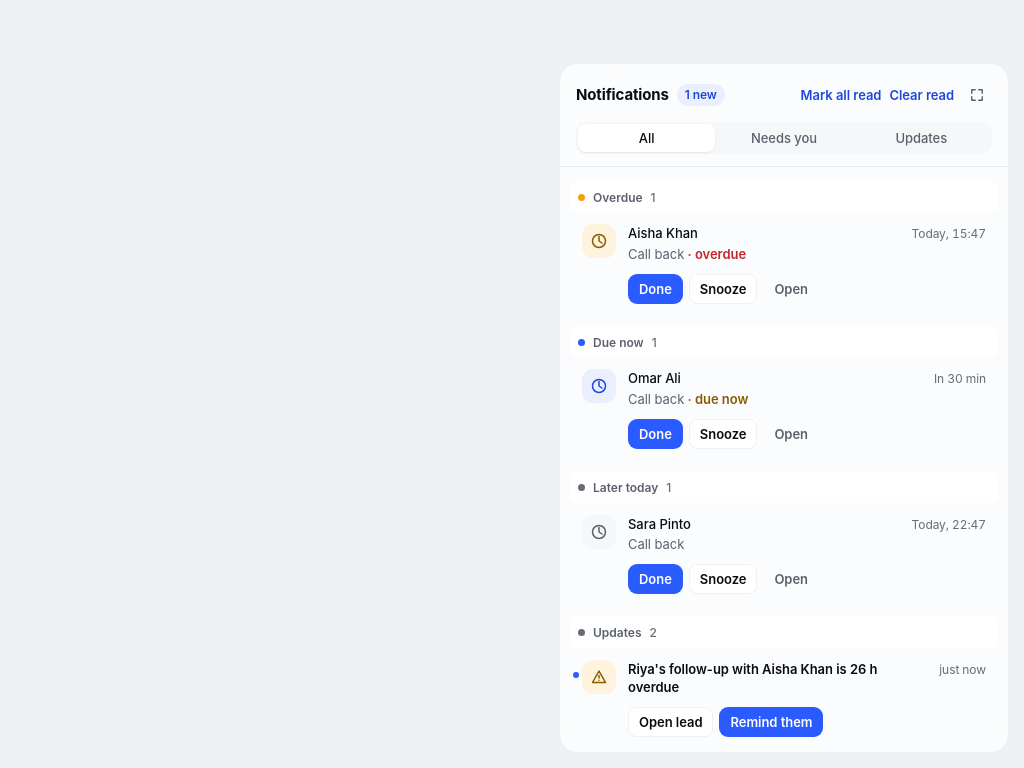
Scenario: the notification centre (3B Task 5) › done from the centre plays done and takes it away; Remind them nudges the assignee
Check: the dialog "Notifications" is shown, box [560, 64, 1008, 752]
Check: the list "overdue" is shown, box [570, 212, 998, 316]
Click the button "Done" below "· overdue" at (655, 289), box [628, 274, 683, 304]
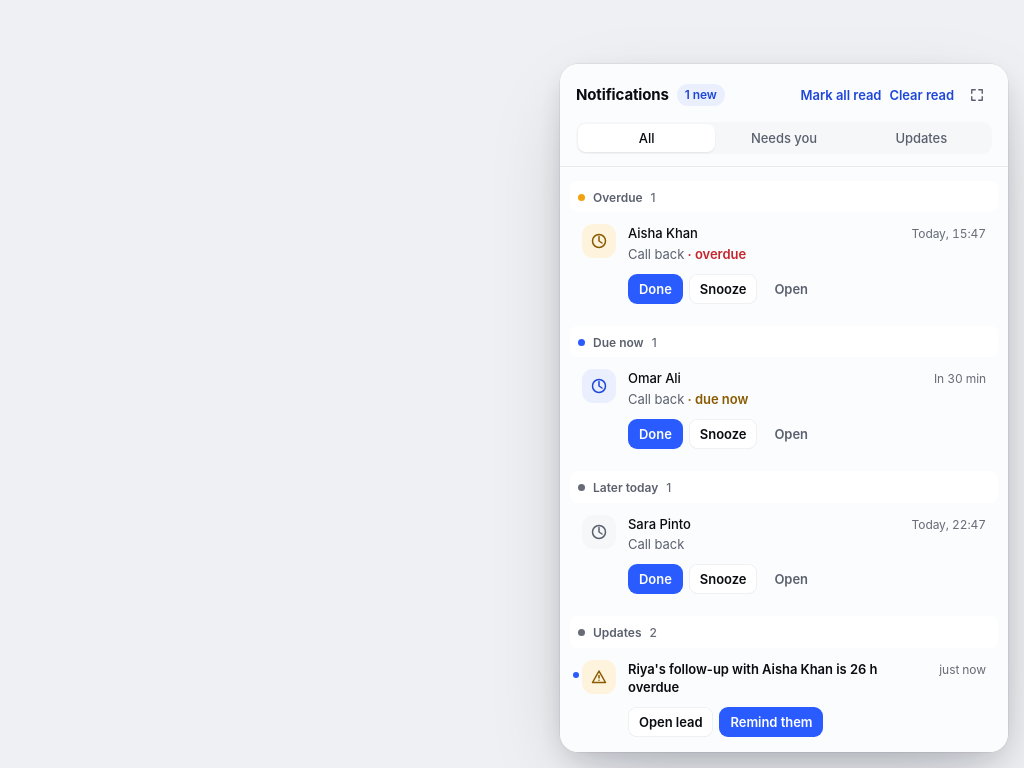
Click the button "Remind them" at (772, 722), box [720, 707, 824, 737]
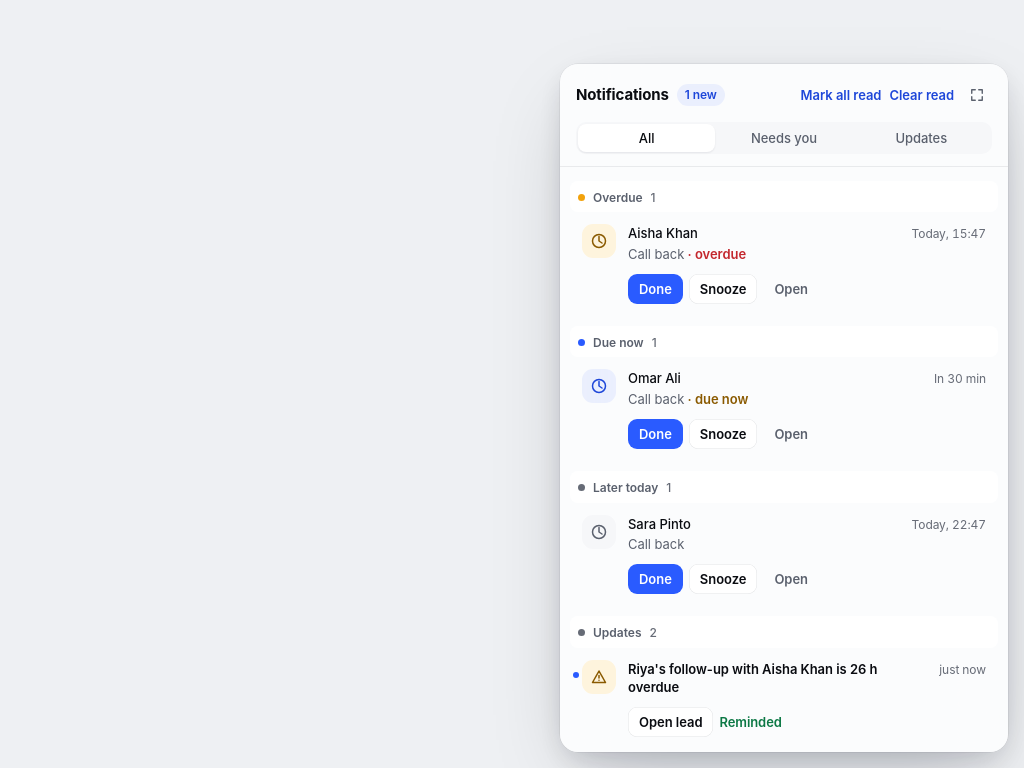
Check: the text "Reminded" is shown, box [720, 713, 782, 732]
